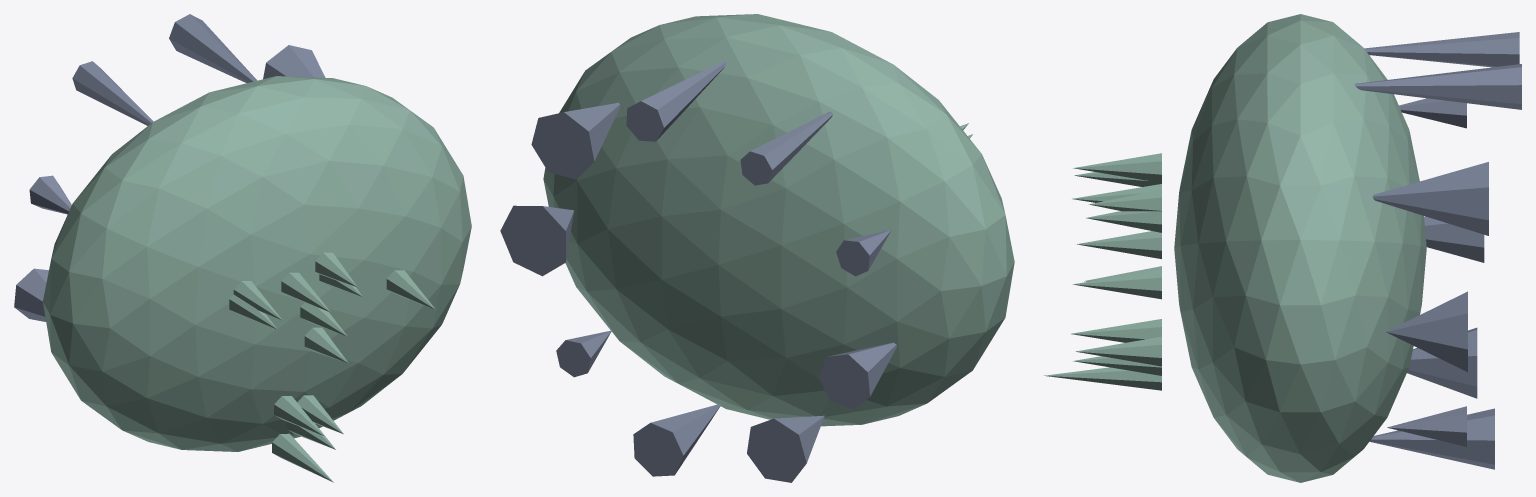
File: 11_Waterfall_Island_Ledge.glb
The picture shows the model from 3 angles, left to right: view 1: azimuth 30°, elevation 25°; view 2: azimuth 150°, elevation 25°; view 3: azimuth 270°, elevation 25°; orthographic projection. The views are drawn at different scales.
Visible parts, largest first — view 1: 11_Waterfall_Island_Ledge_00, 11_Waterfall_Island_Ledge_03, 11_Waterfall_Island_Ledge_04, 11_Waterfall_Island_Ledge_02, 11_Waterfall_Island_Ledge_06, 11_Waterfall_Island_Ledge_05, 11_Waterfall_Island_Ledge_10, 11_Waterfall_Island_Ledge_13, 11_Waterfall_Island_Ledge_15, 11_Waterfall_Island_Ledge_16, 11_Waterfall_Island_Ledge_19, 11_Waterfall_Island_Ledge_12 (+4 smaller); view 2: 11_Waterfall_Island_Ledge_00, 11_Waterfall_Island_Ledge_02, 11_Waterfall_Island_Ledge_01, 11_Waterfall_Island_Ledge_07, 11_Waterfall_Island_Ledge_08, 11_Waterfall_Island_Ledge_06, 11_Waterfall_Island_Ledge_03, 11_Waterfall_Island_Ledge_04, 11_Waterfall_Island_Ledge_09, 11_Waterfall_Island_Ledge_05; view 3: 11_Waterfall_Island_Ledge_00, 11_Waterfall_Island_Ledge_02, 11_Waterfall_Island_Ledge_03, 11_Waterfall_Island_Ledge_04, 11_Waterfall_Island_Ledge_01, 11_Waterfall_Island_Ledge_08, 11_Waterfall_Island_Ledge_07, 11_Waterfall_Island_Ledge_06, 11_Waterfall_Island_Ledge_09, 11_Waterfall_Island_Ledge_10, 11_Waterfall_Island_Ledge_16, 11_Waterfall_Island_Ledge_12 (+9 smaller).
Part boxes in pixels (x1,y1,x2,y2): 11_Waterfall_Island_Ledge_00: (43, 76, 471, 451); 11_Waterfall_Island_Ledge_03: (169, 14, 256, 83); 11_Waterfall_Island_Ledge_04: (72, 61, 153, 125); 11_Waterfall_Island_Ledge_02: (263, 45, 325, 79); 11_Waterfall_Island_Ledge_06: (14, 268, 48, 321); 11_Waterfall_Island_Ledge_05: (29, 175, 71, 214); 11_Waterfall_Island_Ledge_10: (272, 433, 333, 482); 11_Waterfall_Island_Ledge_13: (281, 272, 330, 312); 11_Waterfall_Island_Ledge_15: (274, 396, 323, 435); 11_Waterfall_Island_Ledge_16: (386, 270, 435, 309); 11_Waterfall_Island_Ledge_19: (304, 327, 348, 363); 11_Waterfall_Island_Ledge_12: (233, 281, 282, 320); 11_Waterfall_Island_Ledge_00: (543, 14, 1014, 426); 11_Waterfall_Island_Ledge_02: (531, 102, 619, 179); 11_Waterfall_Island_Ledge_01: (500, 205, 574, 276); 11_Waterfall_Island_Ledge_07: (747, 415, 824, 482); 11_Waterfall_Island_Ledge_08: (633, 403, 722, 476); 11_Waterfall_Island_Ledge_06: (818, 342, 896, 409); 11_Waterfall_Island_Ledge_03: (626, 61, 725, 141); 11_Waterfall_Island_Ledge_04: (740, 111, 832, 185); 11_Waterfall_Island_Ledge_09: (556, 330, 611, 377); 11_Waterfall_Island_Ledge_05: (836, 229, 891, 276); 11_Waterfall_Island_Ledge_00: (1174, 14, 1426, 482); 11_Waterfall_Island_Ledge_02: (1372, 162, 1488, 235); 11_Waterfall_Island_Ledge_03: (1354, 64, 1521, 109); 11_Waterfall_Island_Ledge_04: (1364, 32, 1519, 67); 11_Waterfall_Island_Ledge_01: (1386, 291, 1467, 372); 11_Waterfall_Island_Ledge_08: (1369, 408, 1494, 469); 11_Waterfall_Island_Ledge_07: (1407, 327, 1477, 398); 11_Waterfall_Island_Ledge_06: (1424, 216, 1484, 262); 11_Waterfall_Island_Ledge_09: (1387, 406, 1466, 446); 11_Waterfall_Island_Ledge_10: (1044, 367, 1161, 390); 11_Waterfall_Island_Ledge_16: (1072, 269, 1161, 299); 11_Waterfall_Island_Ledge_12: (1073, 153, 1161, 182).
Bounding box in the file's own units: 10 × 8.21 × 8.72.
